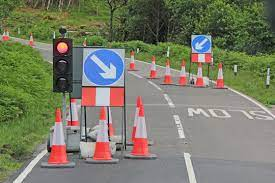obstacle: (79, 44, 129, 163), (48, 26, 85, 154), (40, 108, 76, 167), (85, 104, 119, 164), (130, 93, 155, 163), (188, 31, 212, 90), (190, 60, 207, 89), (212, 59, 227, 91), (161, 56, 173, 88), (127, 48, 140, 75), (177, 57, 187, 88), (148, 54, 159, 82), (27, 30, 36, 49), (1, 25, 11, 41)
